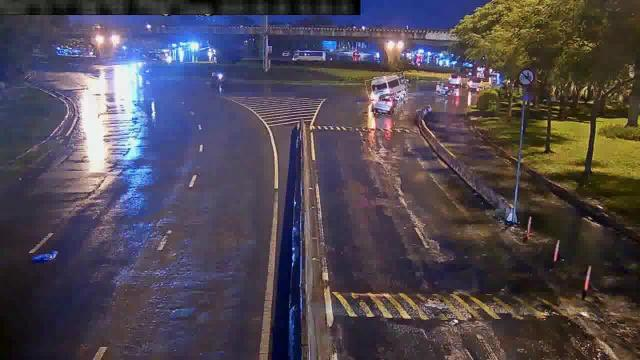Bus: (366, 74, 406, 100)
Car: (371, 91, 399, 115)
